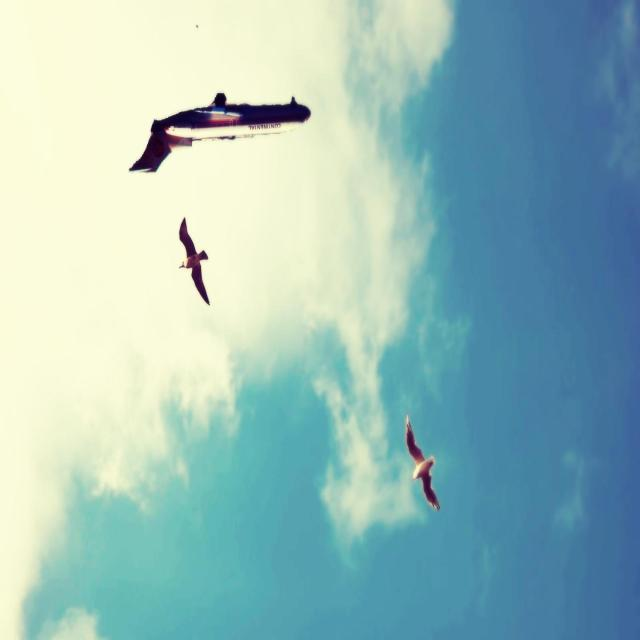airplane: (128, 91, 311, 173)
